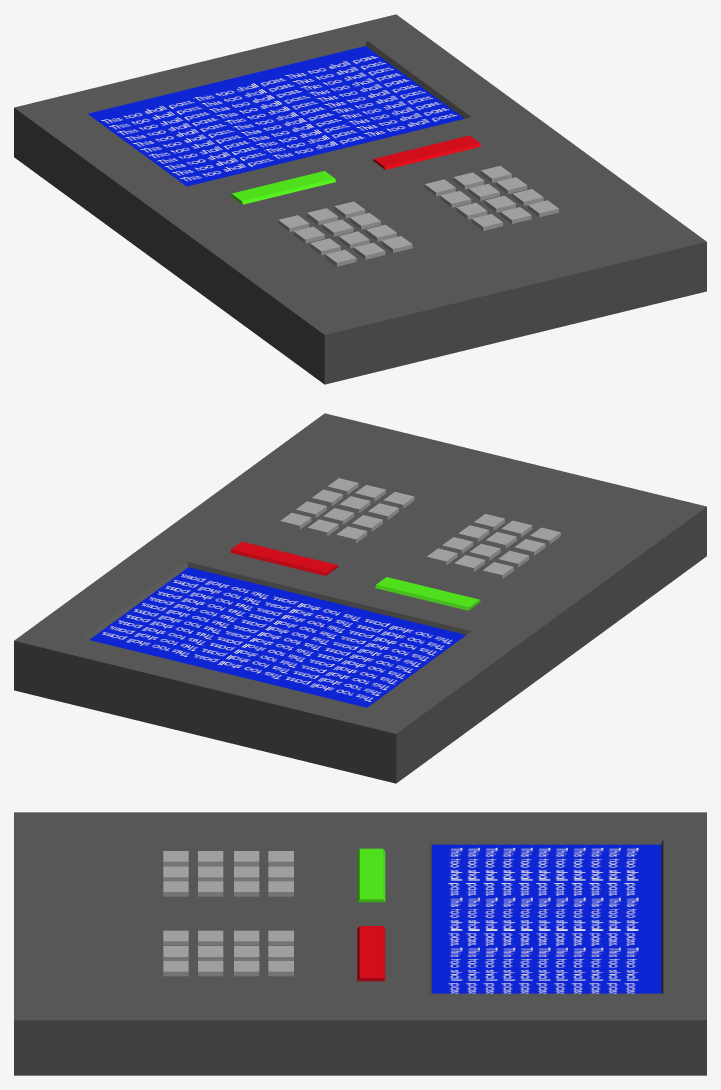
Rendered from Computer Panel Full Model.fbx.
The picture shows the model from 3 angles, top to bottom: view 1: azimuth 30°, elevation 25°; view 2: azimuth 150°, elevation 25°; view 3: azimuth 270°, elevation 25°; orthographic projection. The views are drawn at different scales.
Parts seen in each view (by area): view 1: pCube45; view 2: pCube45; view 3: pCube45.
Part boxes in pixels (bbox=[...]): pCube45: bbox=[14, 14, 706, 384]; pCube45: bbox=[14, 413, 706, 783]; pCube45: bbox=[14, 812, 706, 1075].
Bounding box in the file's own units: 8.06 × 1.08 × 11.35.
